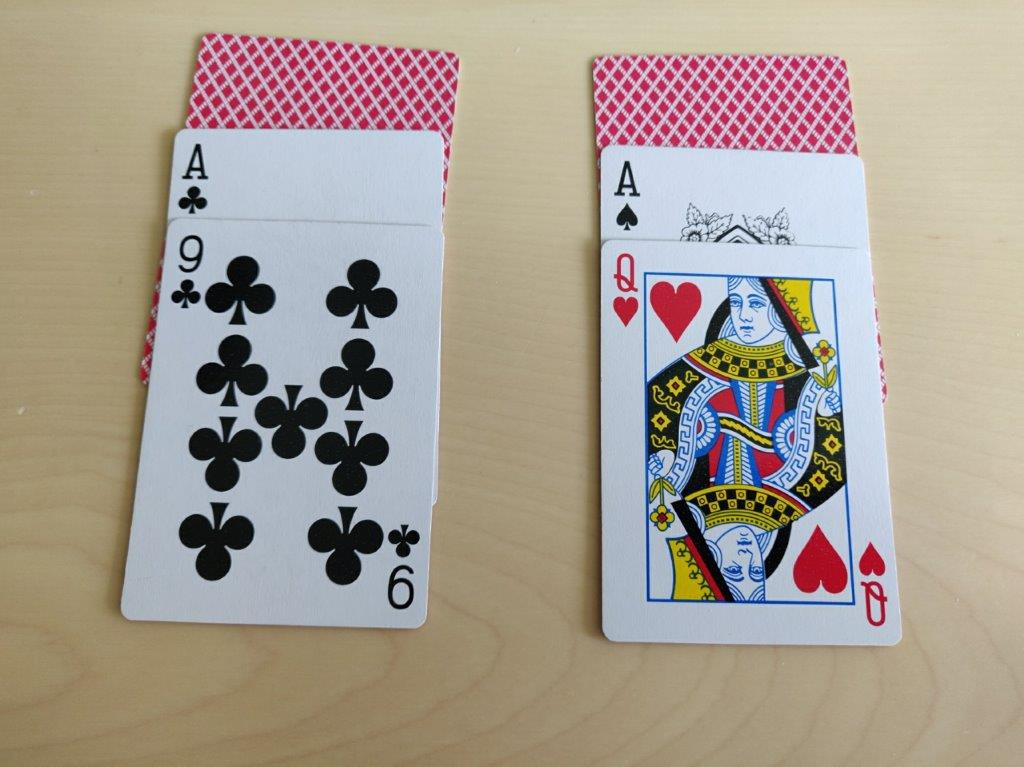9C: (166, 226, 208, 313)
AC: (175, 137, 211, 220)
AS: (608, 154, 650, 236)
BACK: (574, 45, 878, 152), (194, 30, 454, 133)
QH: (609, 248, 643, 329)
